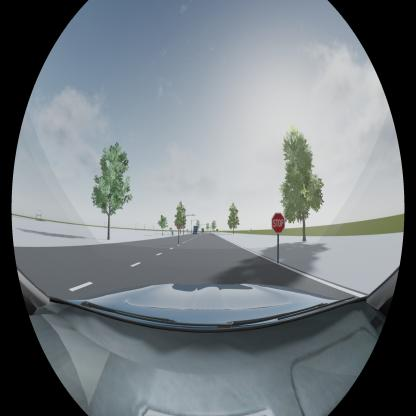Stop: (271, 212, 286, 234)
